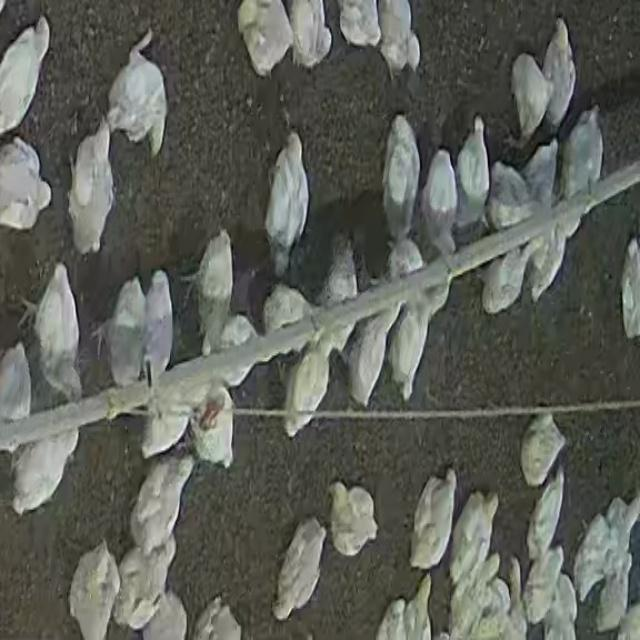chicken: (32, 264, 84, 400), (66, 119, 115, 257), (106, 52, 171, 156), (130, 453, 192, 558), (264, 126, 309, 269), (10, 428, 81, 516), (111, 534, 178, 627), (0, 14, 52, 133), (189, 229, 236, 354), (274, 518, 328, 621), (67, 541, 120, 640), (381, 116, 421, 244), (101, 278, 147, 389), (348, 307, 397, 411), (410, 469, 458, 570), (284, 342, 333, 439), (0, 138, 50, 232), (559, 107, 605, 208), (448, 490, 500, 579), (390, 295, 432, 404), (447, 554, 500, 639), (140, 270, 176, 392), (454, 114, 490, 233), (188, 381, 237, 468), (237, 1, 292, 77), (599, 490, 639, 594), (420, 149, 458, 258), (542, 18, 577, 133), (526, 468, 566, 566), (511, 50, 553, 141), (481, 243, 534, 315), (327, 482, 377, 557), (572, 514, 615, 600), (140, 391, 192, 462), (327, 238, 361, 346), (486, 163, 534, 233), (376, 0, 418, 76), (521, 416, 566, 483), (288, 1, 332, 68), (0, 342, 33, 431), (526, 232, 564, 304), (526, 547, 565, 617), (263, 284, 311, 338), (596, 564, 632, 630), (404, 574, 439, 640), (505, 560, 534, 637), (140, 592, 188, 638), (198, 594, 245, 640), (529, 141, 562, 203), (340, 0, 382, 48), (620, 239, 640, 338), (388, 236, 423, 281), (372, 599, 407, 640)
